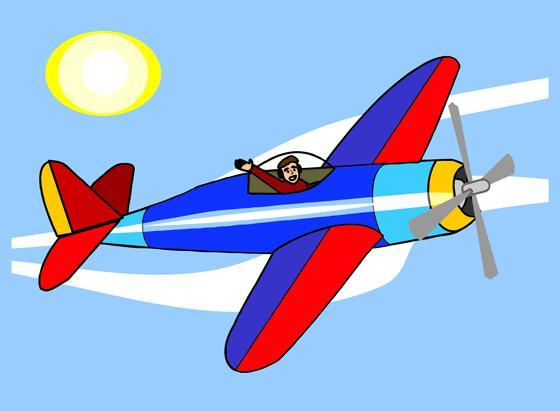aeroplane: (33, 53, 520, 373)
person: (231, 153, 325, 194)
